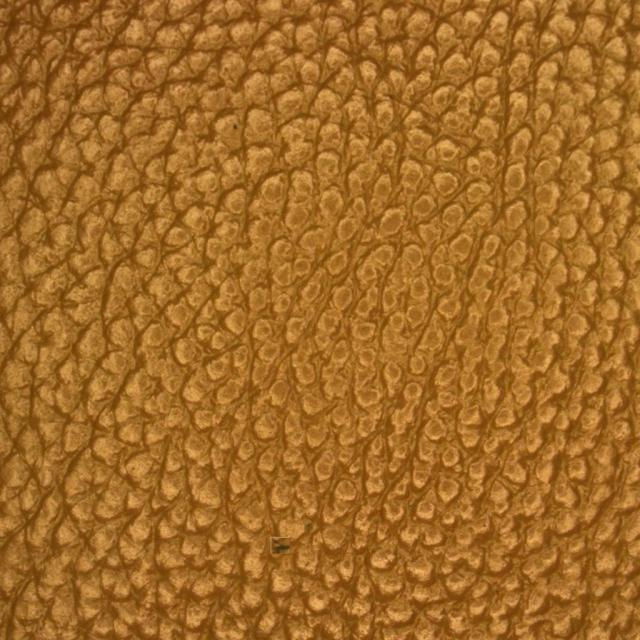pinhole: (218, 450, 342, 631)
